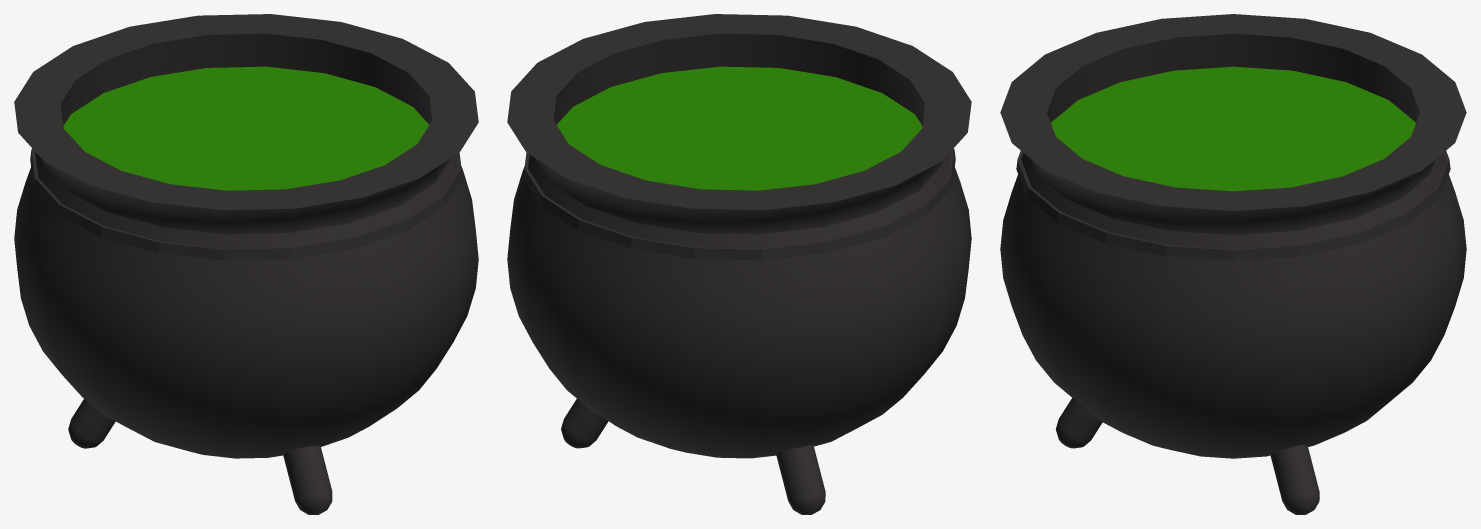
File: cauldron.fbx
The picture shows the model from 3 angles, left to right: view 1: azimuth 30°, elevation 25°; view 2: azimuth 150°, elevation 25°; view 3: azimuth 270°, elevation 25°; orthographic projection.
Visible parts, largest first — view 1: CauldronPolished1; view 2: CauldronPolished1; view 3: CauldronPolished1.
Part boxes in pixels (x1,y1,x2,y2): CauldronPolished1: [14, 14, 478, 514]; CauldronPolished1: [507, 14, 971, 514]; CauldronPolished1: [1000, 14, 1466, 514].
Size of the model in its own units: 116 by 93.29 by 116.
